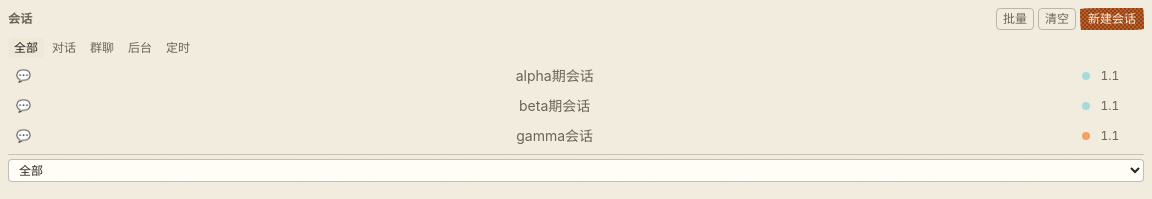
Test case: ConversationsList — workspace filter (spec 5.5.1-7a, ADR-0021 task 6.9) › filtering by a multi-directory workspace shows sessions from both directories
Expected: the text "alpha期会话" is shown, [516,67,594,84]
Expected: the text "beta期会话" is shown, [519,97,590,114]
Select "alpha-beta" in the dropdown at (576,170), box [8,159,1144,182]
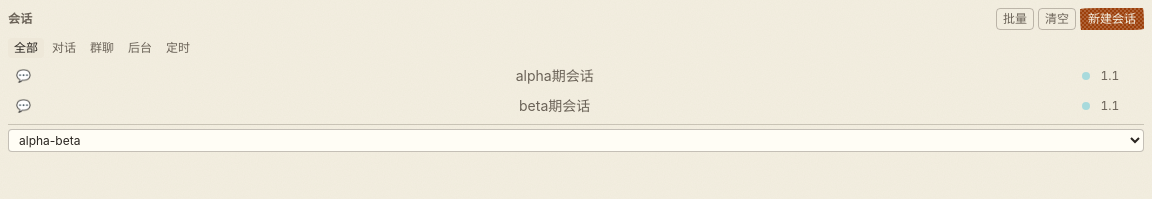
Expected: the text "alpha期会话" is shown, [516,67,594,84]
Now the button "gamma会话" is gone
